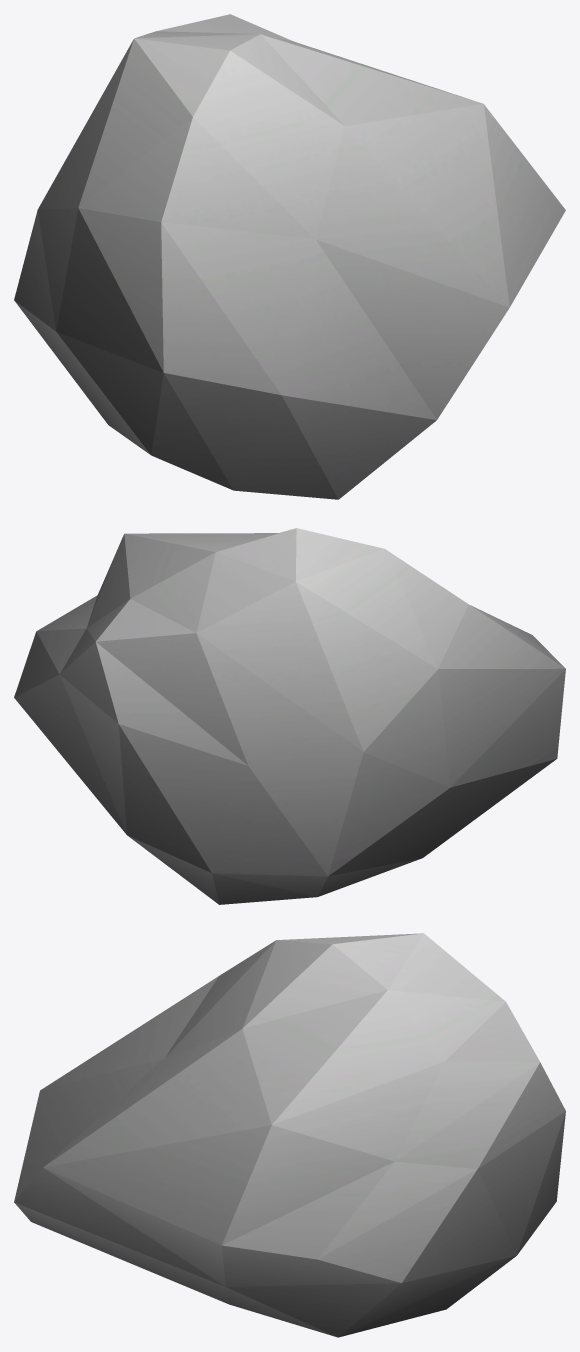
3 renders of one model, top to bottom at view 1: azimuth 30°, elevation 25°; view 2: azimuth 150°, elevation 25°; view 3: azimuth 270°, elevation 25°, orthographic. The views are drawn at different scales.
Parts seen in each view (by area): view 1: RockGrey1; view 2: RockGrey1; view 3: RockGrey1.
Boxes of the visible parts, x1,y1,x2,y2 form: RockGrey1: (14,14,565,499); RockGrey1: (14,528,565,904); RockGrey1: (14,933,565,1337).
Bounding box in the file's own units: 79.66 × 60 × 84.8.
1 material, 1 textured.
